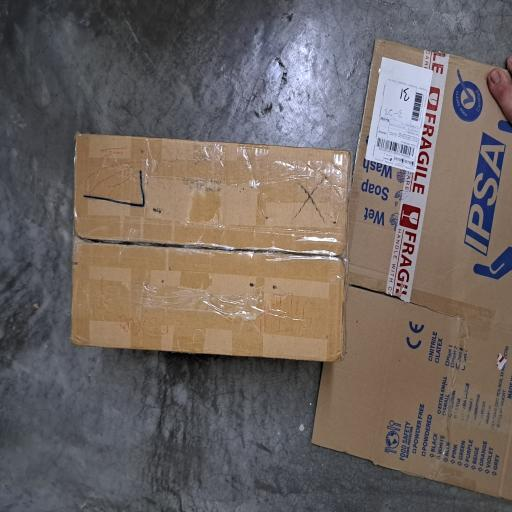cardboard: (110, 92, 285, 466), (10, 415, 356, 512)
